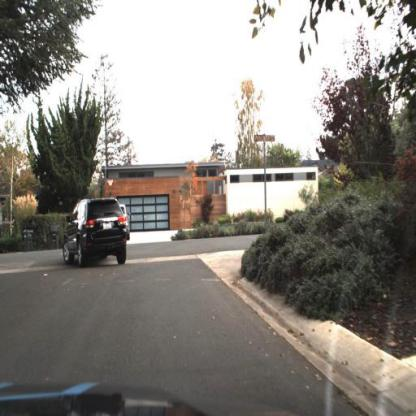car: (61, 196, 130, 271), (123, 204, 133, 242)
